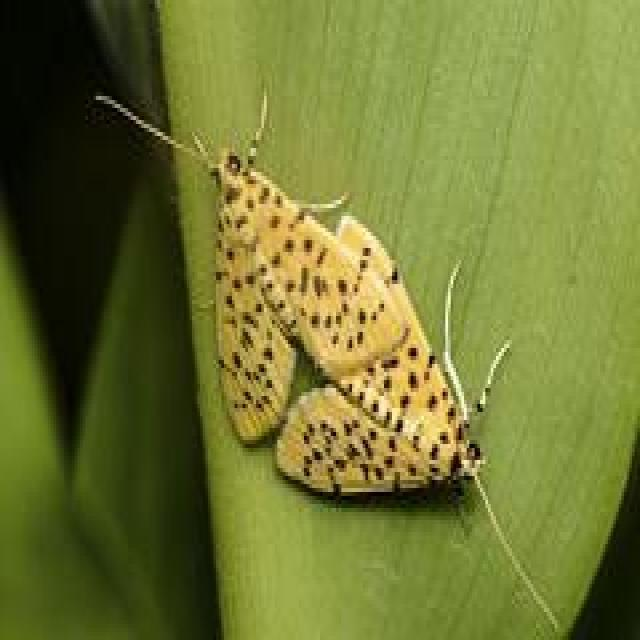peach borer: (201, 121, 500, 505)
